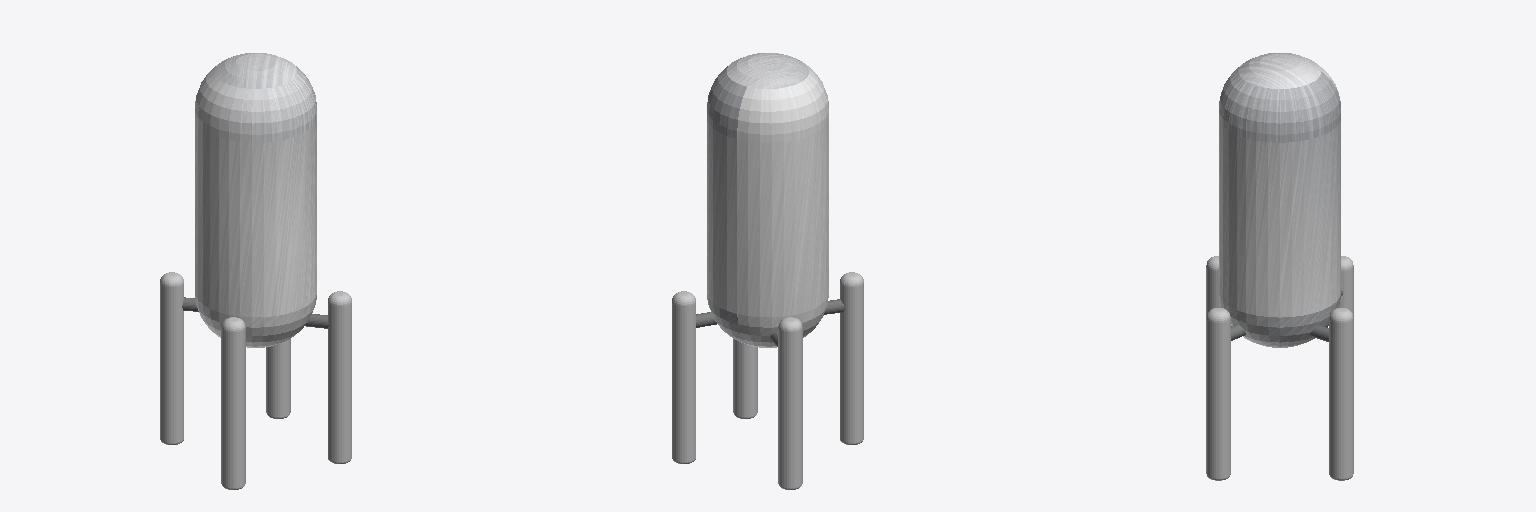
The picture shows the model from 3 angles: view 1: azimuth 30°, elevation 25°; view 2: azimuth 150°, elevation 25°; view 3: azimuth 270°, elevation 25°; orthographic projection.
Parts seen in each view (by area): view 1: Цилиндр.006_Цилиндр.008; view 2: Цилиндр.006_Цилиндр.008; view 3: Цилиндр.006_Цилиндр.008.
Part boxes in pixels (left/top/right/bottom): Цилиндр.006_Цилиндр.008: left=160, top=53, right=351, bottom=489; Цилиндр.006_Цилиндр.008: left=672, top=53, right=863, bottom=489; Цилиндр.006_Цилиндр.008: left=1206, top=53, right=1353, bottom=480.
Bounding box in the file's own units: 2.4 × 7 × 2.4.
3 materials, 1 textured.